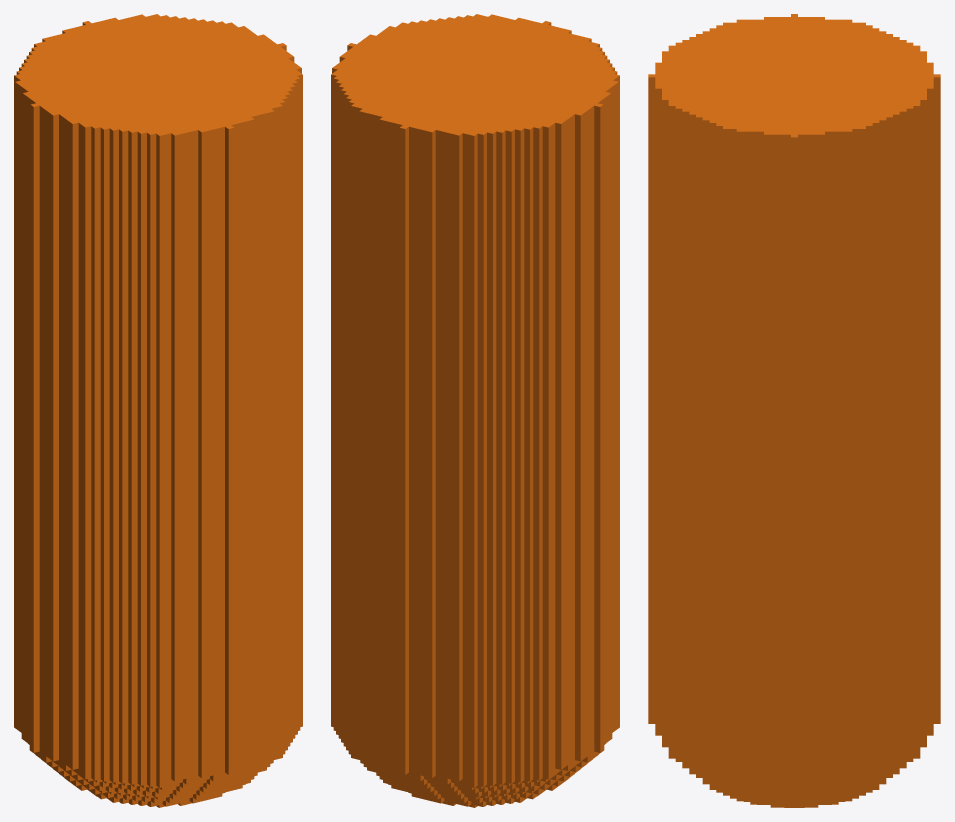
Rendered from CopperCoil.fbx.
3 views of the same model, side by side, from view 1: azimuth 30°, elevation 25°; view 2: azimuth 150°, elevation 25°; view 3: azimuth 270°, elevation 25° (orthographic).
Parts seen in each view (by area): view 1: CopperCoil; view 2: CopperCoil; view 3: CopperCoil.
Part boxes in pixels (<box>): CopperCoil: <box>14,14,302,807</box>; CopperCoil: <box>331,14,619,807</box>; CopperCoil: <box>648,14,940,807</box>.
Bounding box in the file's own units: 203 × 543 × 203.
